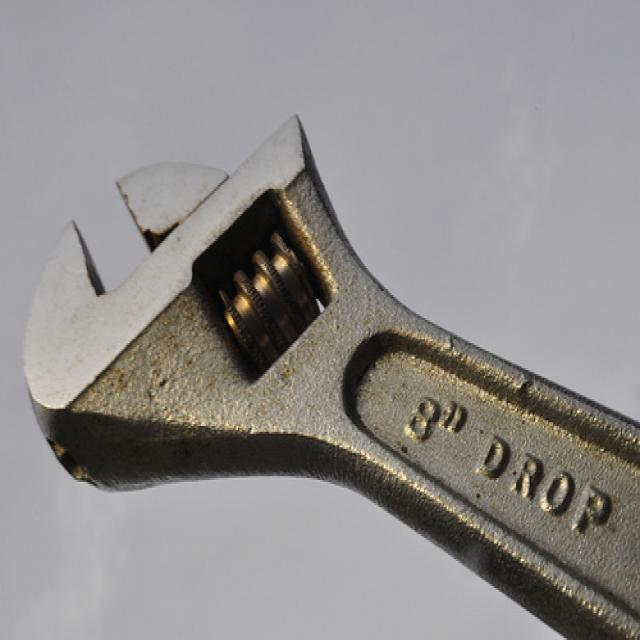wrench: (11, 93, 640, 640)
